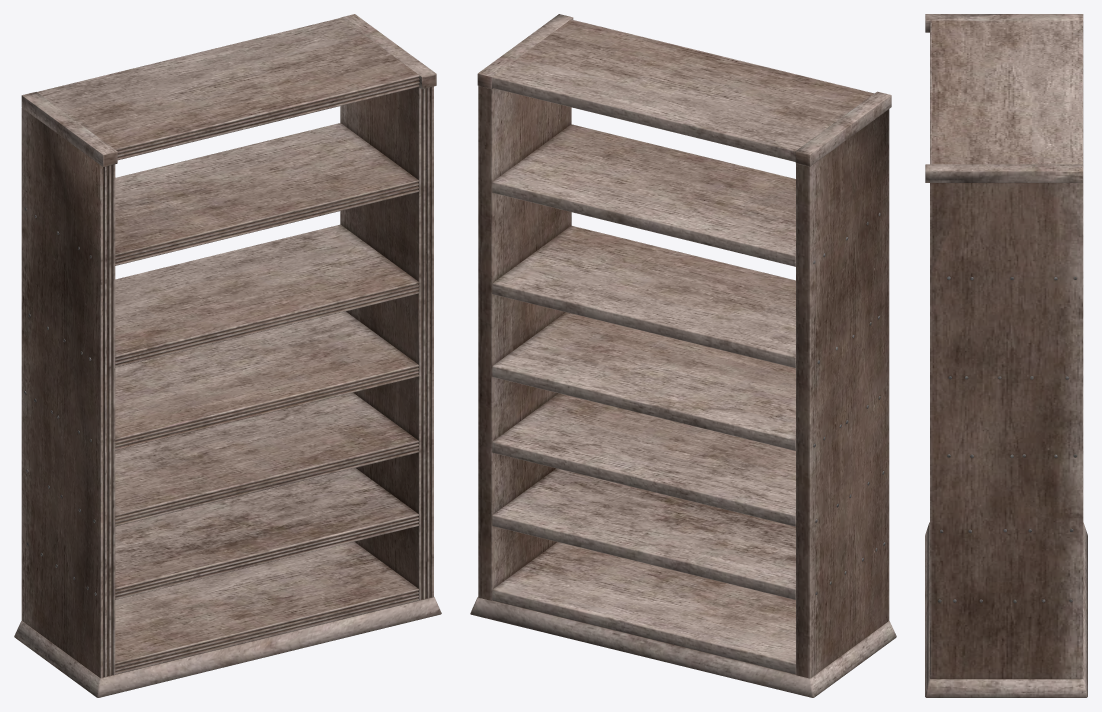
The model's file is bookshelf.glb.
The picture shows the model from 3 angles, left to right: view 1: azimuth 30°, elevation 25°; view 2: azimuth 150°, elevation 25°; view 3: azimuth 270°, elevation 25°; orthographic projection. The views are drawn at different scales.
Parts seen in each view (by area): view 1: wooden_bookshelf_worn; view 2: wooden_bookshelf_worn; view 3: wooden_bookshelf_worn.
Part boxes in pixels (x1=…): wooden_bookshelf_worn: x1=14, y1=14, x2=441, y2=697; wooden_bookshelf_worn: x1=470, y1=14, x2=896, y2=697; wooden_bookshelf_worn: x1=925, y1=14, x2=1087, y2=697.
Bounding box in the file's own units: 1.37 × 2.06 × 0.5814.
Materials: 1 (1 with a texture image).
